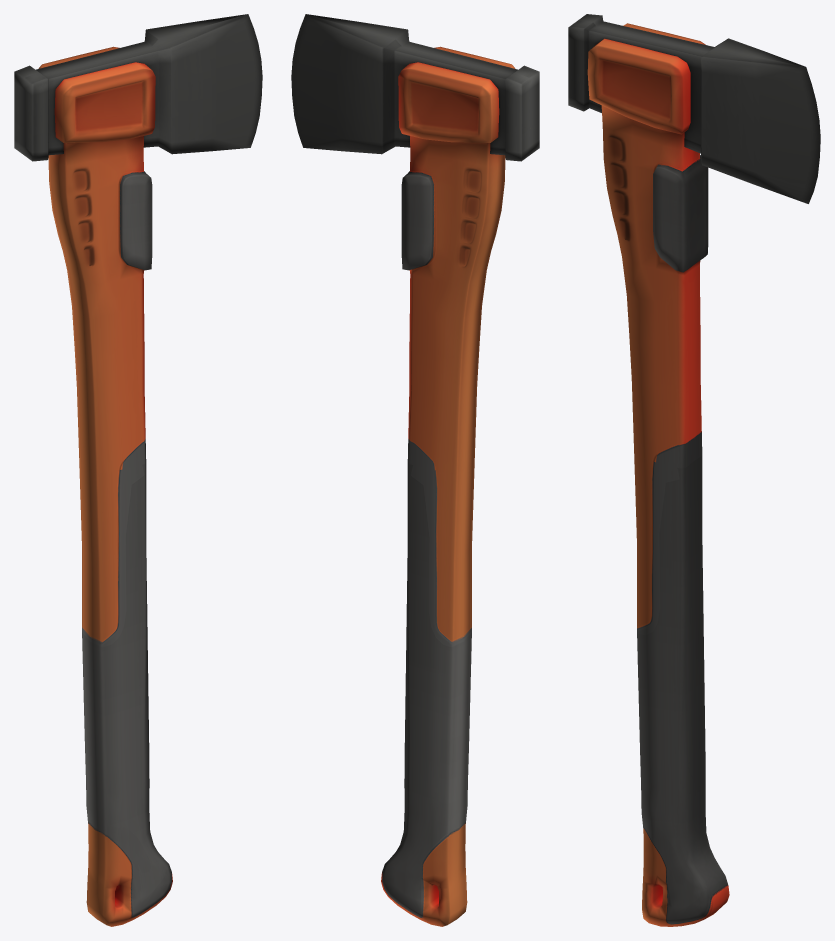
File: CompositeAxe.fbx
The picture shows the model from 3 angles, left to right: view 1: azimuth 30°, elevation 25°; view 2: azimuth 150°, elevation 25°; view 3: azimuth 330°, elevation 25°; orthographic projection.
Parts seen in each view (by area): view 1: CompositeAxe_LOD0; view 2: CompositeAxe_LOD0; view 3: CompositeAxe_LOD0.
Boxes of the visible parts, <box> form: CompositeAxe_LOD0: <box>14,14,262,926</box>; CompositeAxe_LOD0: <box>291,14,539,926</box>; CompositeAxe_LOD0: <box>568,14,820,926</box>.
Size of what is drawn, in the model's own units: 20.69 by 72.08 by 4.69.
